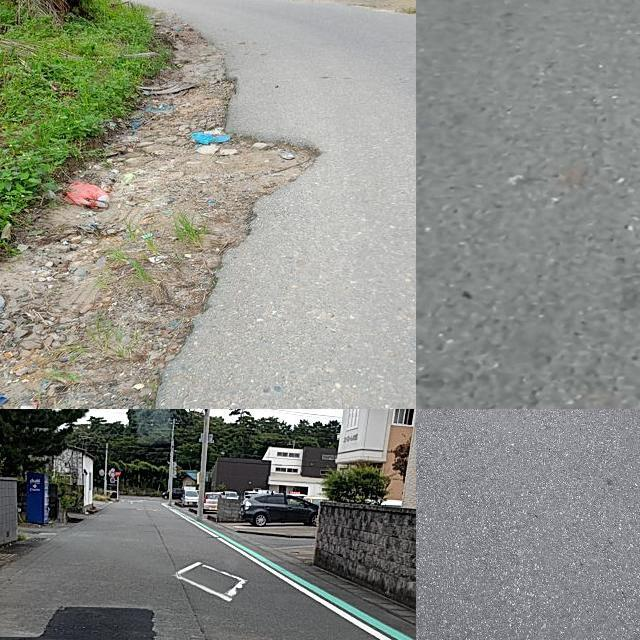Pinggir: (29, 60, 339, 409)
Sambungan: (416, 409, 640, 640), (0, 606, 163, 640)
